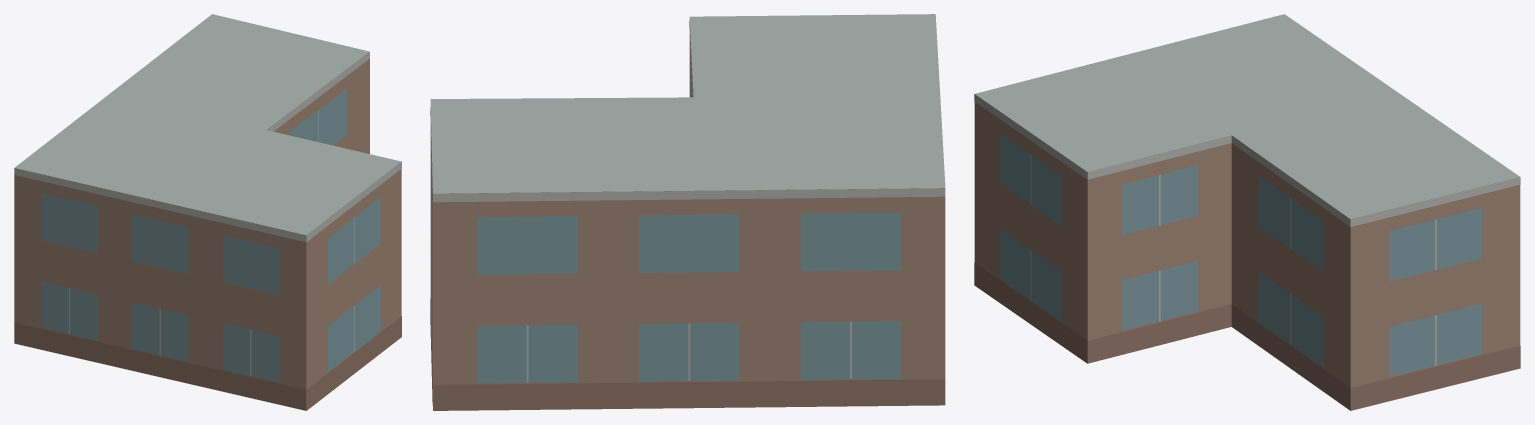
File: survey-upis-32974252.glb
3 views of the same model, side by side, from view 1: azimuth 30°, elevation 25°; view 2: azimuth 150°, elevation 25°; view 3: azimuth 270°, elevation 25° (orthographic). The views are drawn at different scales.
Visible parts, largest first — view 1: survey-upis-32974252.tmp; view 2: survey-upis-32974252.tmp; view 3: survey-upis-32974252.tmp.
Part boxes in pixels (box(x1,y1,x2,y2)): survey-upis-32974252.tmp: box(14, 14, 401, 410); survey-upis-32974252.tmp: box(430, 14, 945, 410); survey-upis-32974252.tmp: box(974, 14, 1520, 410).
Bounding box in the file's own units: 14.04 × 6.1 × 15.77.
